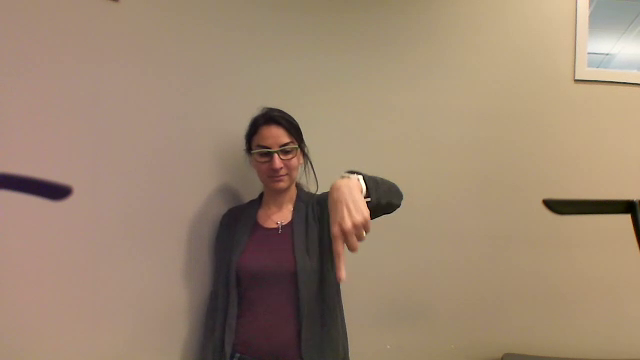down: (315, 170, 382, 295)
